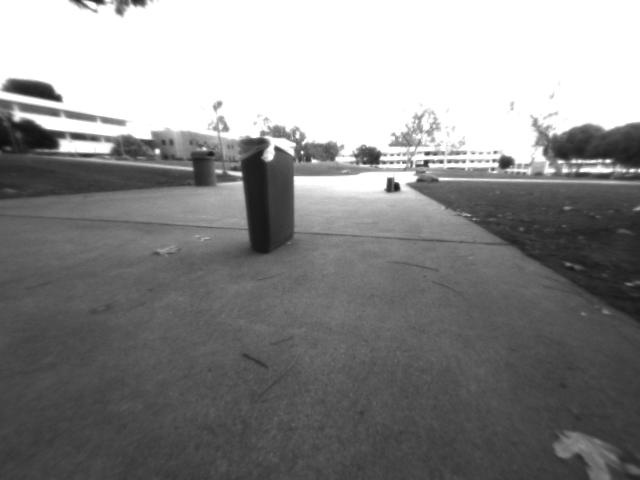trashcan_open: (236, 134, 298, 256)
